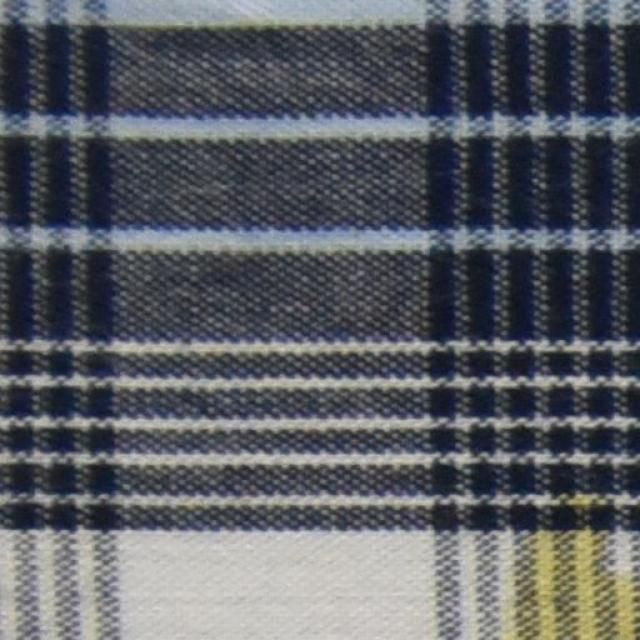Stain: (510, 507, 639, 639)
